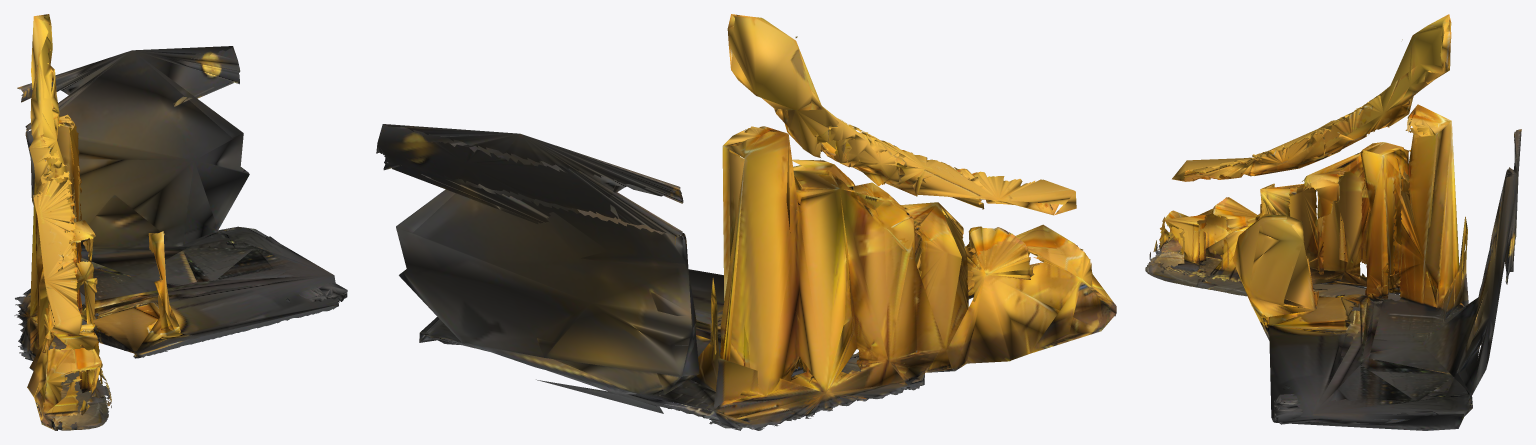
3 renders of one model, left to right at view 1: azimuth 30°, elevation 25°; view 2: azimuth 150°, elevation 25°; view 3: azimuth 270°, elevation 25°, orthographic. The views are drawn at different scales.
Size of the model in its own units: 1.94 by 1.5 by 1.68.
Materials: 1 (1 with a texture image).
